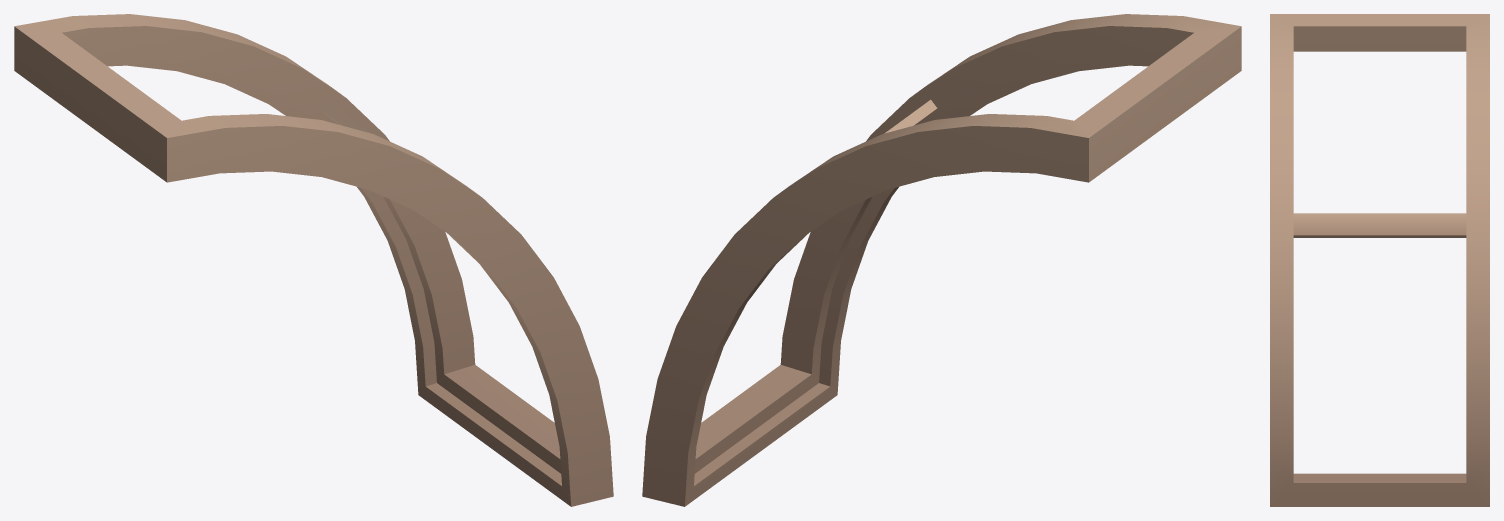
Rendered from roof-curved-window-single.glb.
3 renders of one model, left to right at view 1: azimuth 30°, elevation 25°; view 2: azimuth 150°, elevation 25°; view 3: azimuth 270°, elevation 25°, orthographic. The views are drawn at different scales.
Parts seen in each view (by area): view 1: roof-curved-window-single; view 2: roof-curved-window-single; view 3: roof-curved-window-single.
Part boxes in pixels (x1,y1,x2,y2): roof-curved-window-single: (14,14,613,506); roof-curved-window-single: (642,14,1241,506); roof-curved-window-single: (1270,14,1489,506).
Size of the model in its own units: 1.58 by 1.57 by 0.9333.
